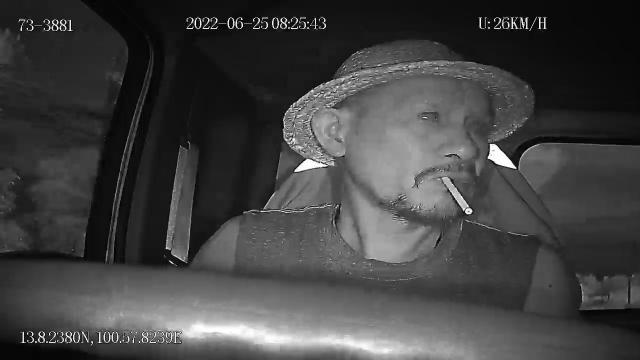Smoking: (440, 176, 472, 216)
